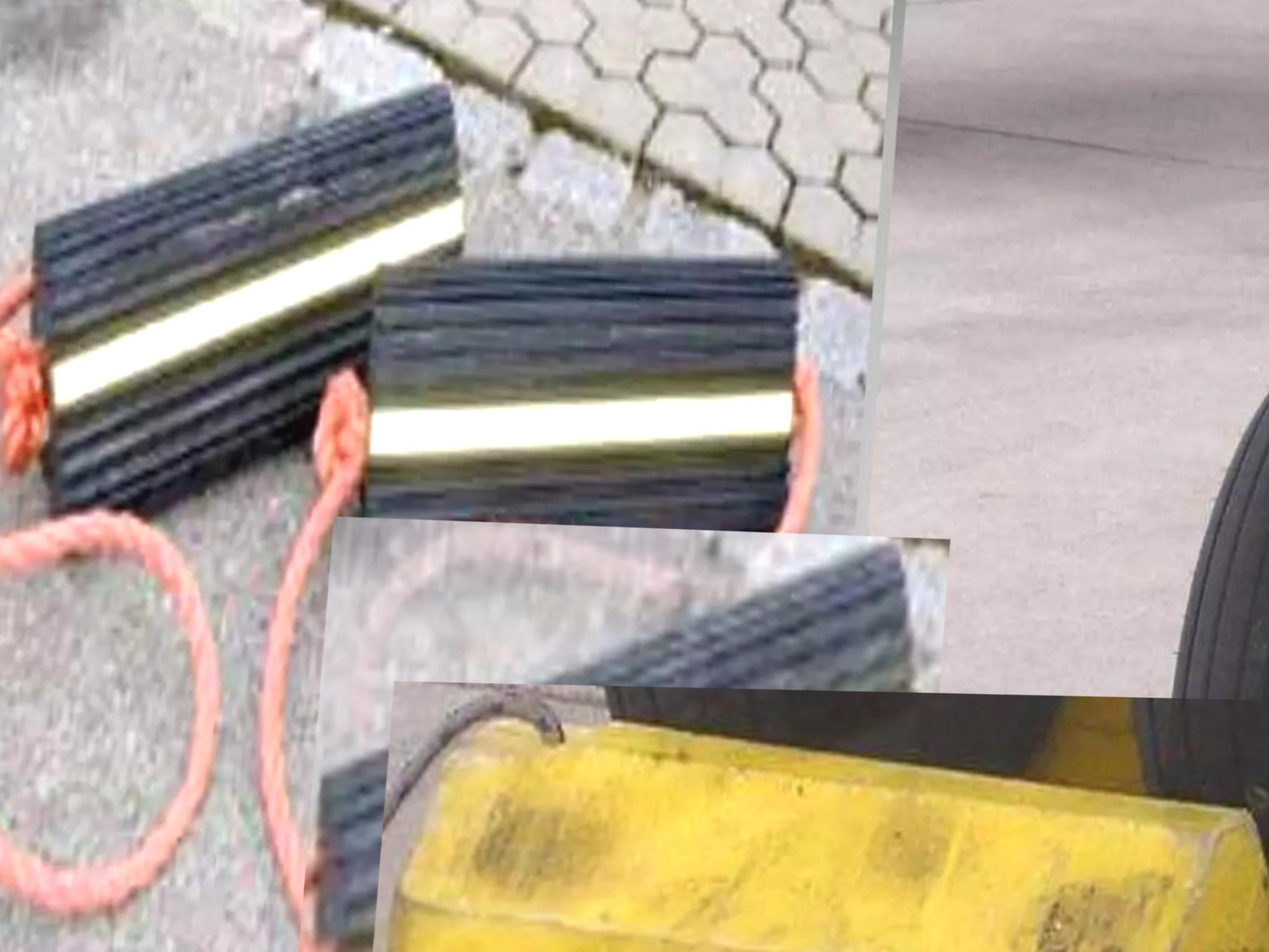chock: (288, 516, 951, 952), (363, 681, 1269, 952), (4, 47, 487, 531), (342, 233, 835, 614)
